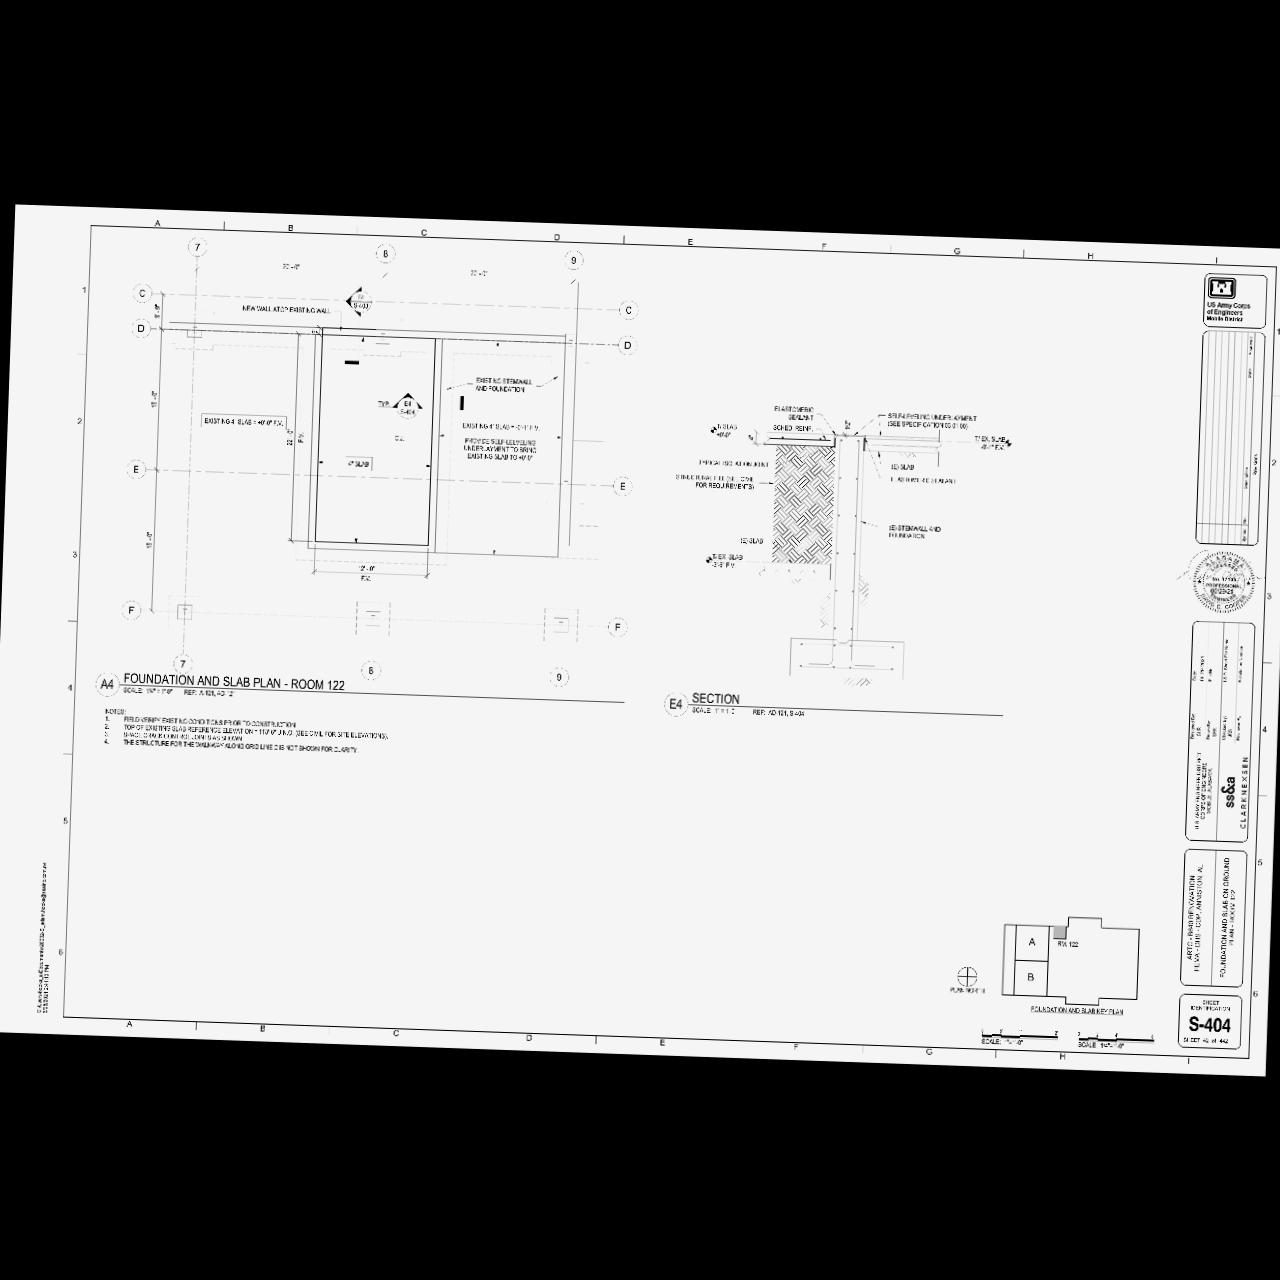elevation: (338, 283, 378, 321), (387, 388, 427, 422)
title: (89, 667, 629, 717), (658, 685, 1008, 731)
